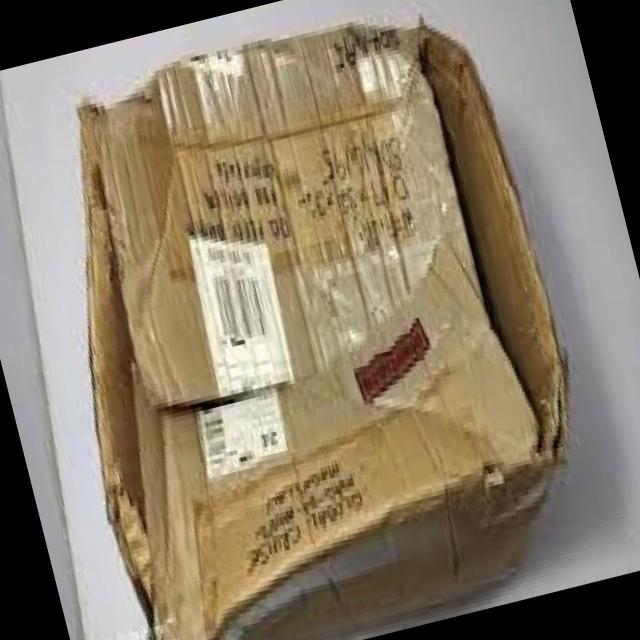box: (68, 89, 574, 550)
